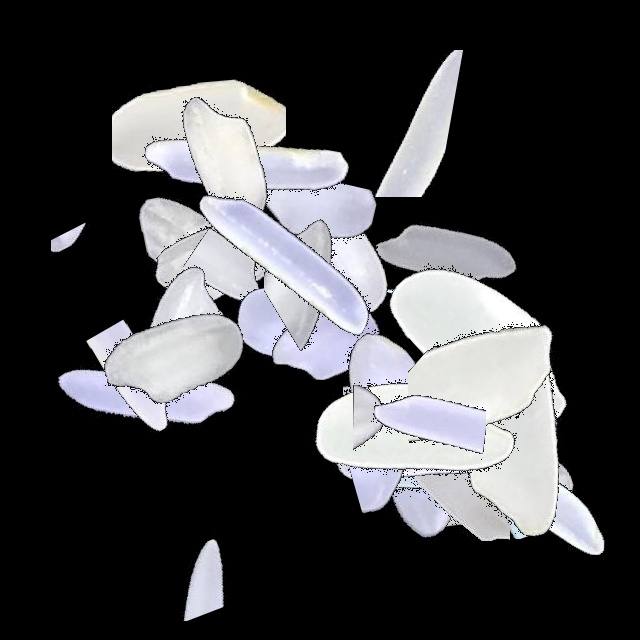Broken: (112, 39, 286, 289), (298, 405, 548, 578), (408, 278, 580, 528), (380, 369, 630, 539), (271, 280, 441, 530), (382, 315, 548, 565), (343, 294, 502, 544), (264, 143, 419, 393), (69, 128, 221, 378), (231, 126, 380, 376), (346, 320, 495, 570), (250, 50, 500, 197), (390, 463, 640, 607), (70, 265, 209, 515), (183, 163, 321, 413), (353, 298, 486, 548), (314, 202, 564, 305), (52, 518, 302, 621), (288, 380, 538, 482), (51, 142, 140, 392), (289, 355, 539, 444), (265, 125, 353, 375), (286, 331, 536, 419), (212, 364, 462, 450), (353, 307, 439, 557), (394, 280, 475, 530)
Full: (20, 265, 270, 515), (321, 134, 571, 384), (96, 132, 346, 382), (218, 120, 468, 370), (307, 330, 557, 580), (297, 346, 547, 596), (369, 262, 619, 512), (169, 197, 419, 447), (359, 218, 609, 468), (302, 281, 552, 531), (51, 211, 301, 461), (325, 351, 575, 601), (120, 37, 370, 287), (390, 317, 640, 567), (48, 233, 298, 483), (202, 217, 452, 467), (390, 325, 640, 575), (390, 367, 640, 617), (308, 327, 558, 577), (390, 308, 640, 558), (259, 262, 509, 512), (292, 308, 542, 558), (100, 36, 350, 286), (160, 136, 410, 386)
